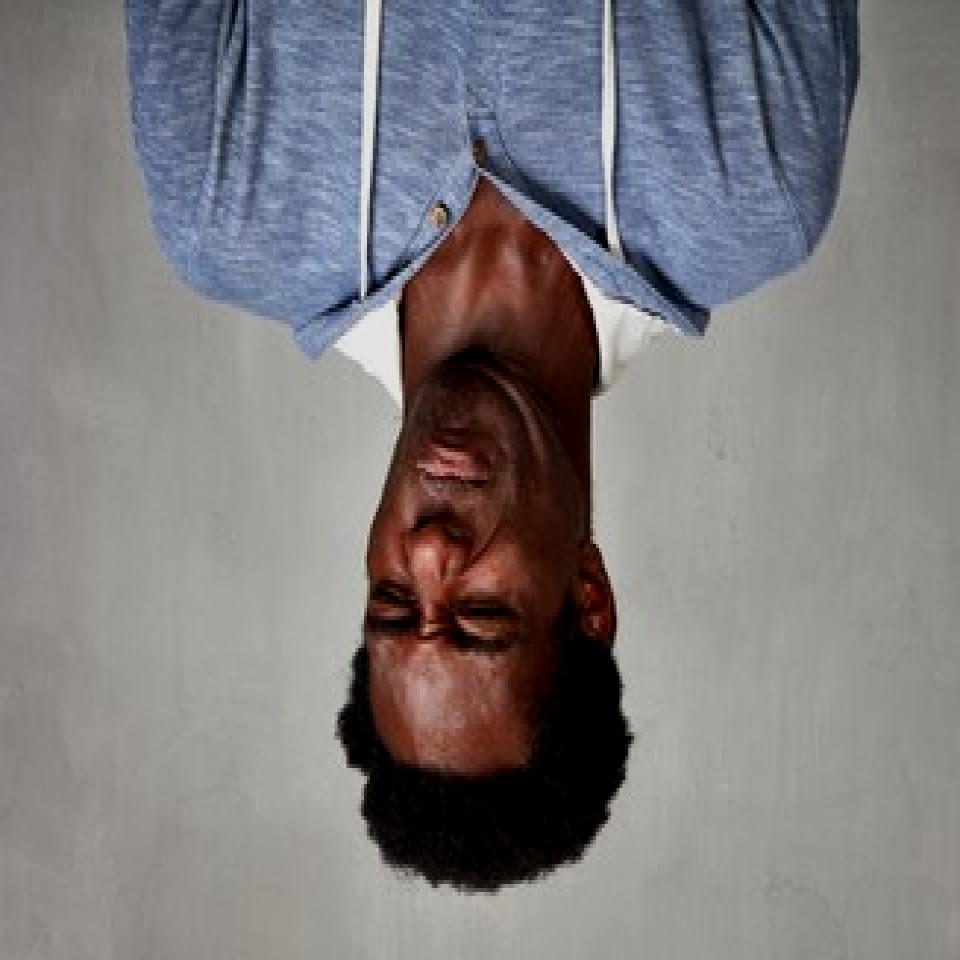Disgust: (366, 367, 598, 716)
